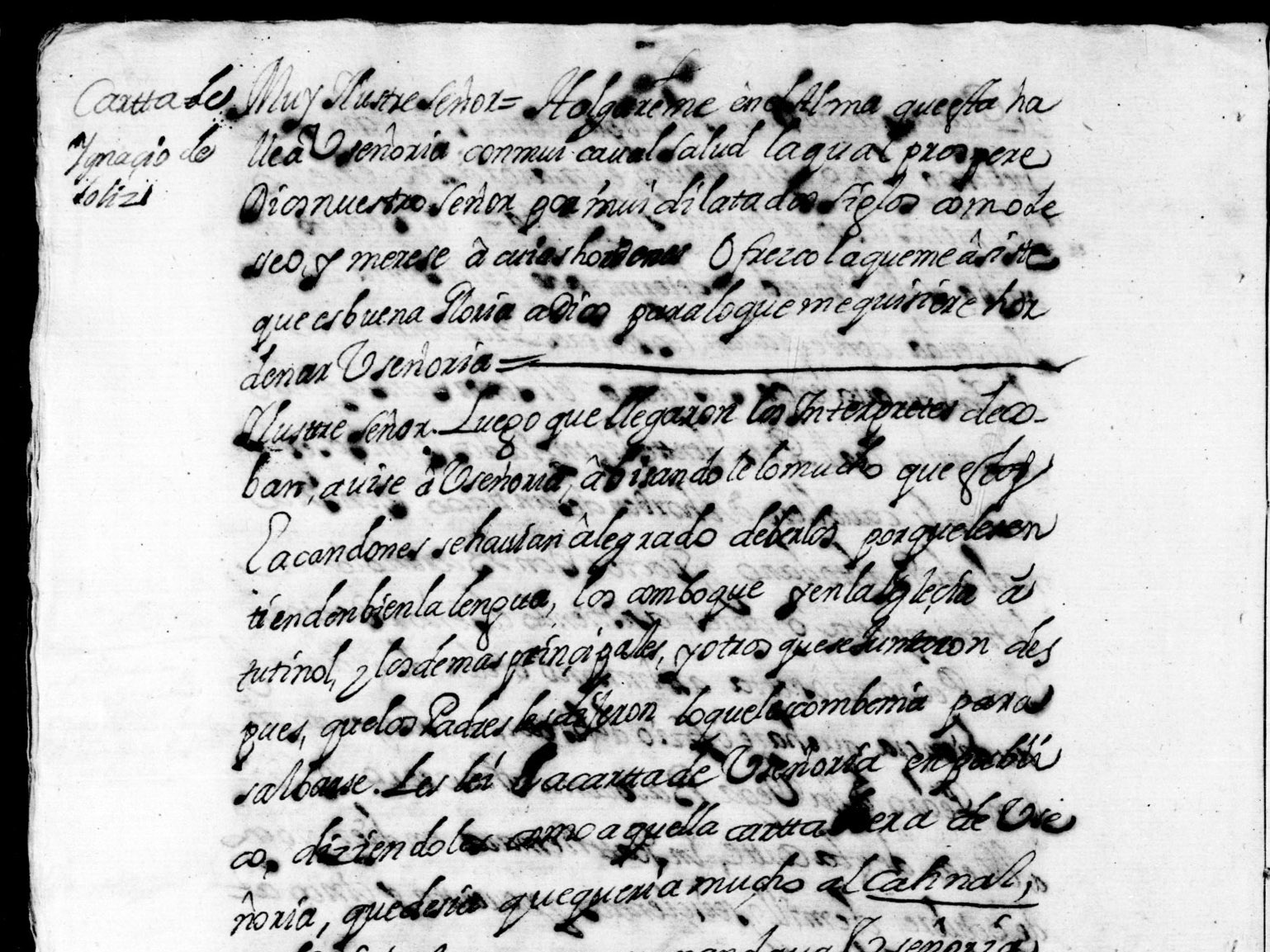lacandon: (245, 511, 431, 574)
